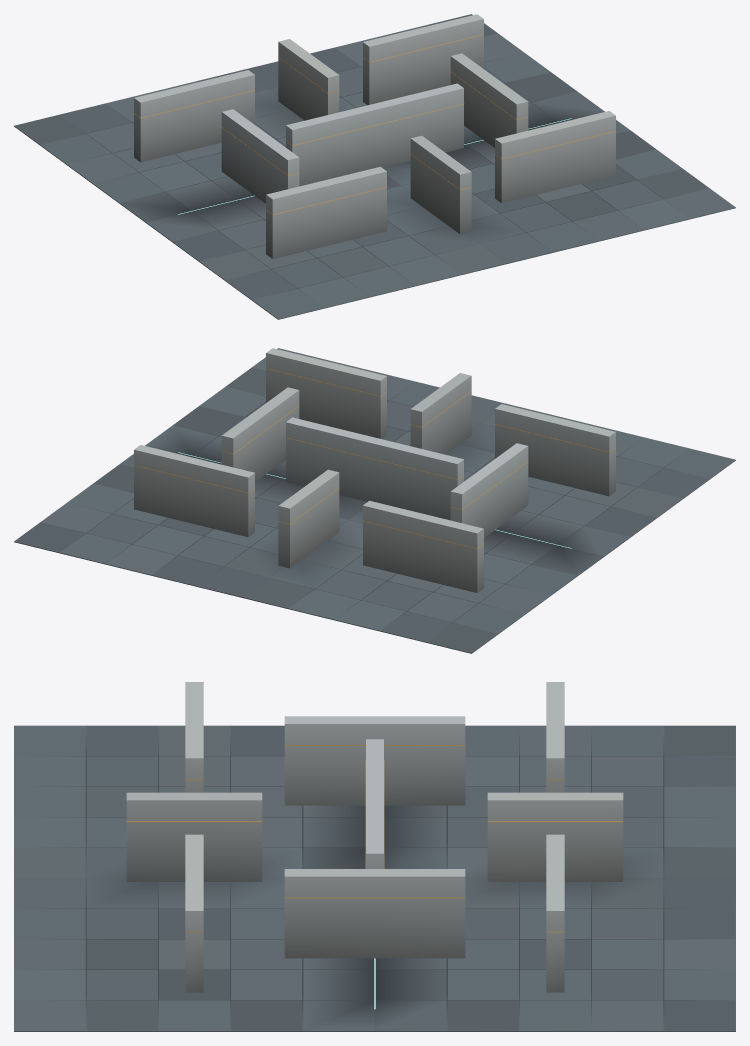
The model's file is 01_world.glb.
3 renders of one model, top to bottom at view 1: azimuth 30°, elevation 25°; view 2: azimuth 150°, elevation 25°; view 3: azimuth 270°, elevation 25°, orthographic. The views are drawn at different scales.
Visible parts, largest first — view 1: world_11_body_nocol, world_01_floor_noshadow_nocol, world_11_floor_noshadow_nocol, world_00_floor_noshadow_nocol, world_01_body_nocol, world_10_body_nocol, world_10_floor_noshadow_nocol, world_00_body_nocol, world_11_trim_noshadow_nocol; view 2: world_11_body_nocol, world_00_floor_noshadow_nocol, world_10_floor_noshadow_nocol, world_01_floor_noshadow_nocol, world_10_body_nocol, world_01_body_nocol, world_00_body_nocol, world_11_floor_noshadow_nocol, world_11_trim_noshadow_nocol; view 3: world_10_floor_noshadow_nocol, world_11_floor_noshadow_nocol, world_00_floor_noshadow_nocol, world_01_floor_noshadow_nocol, world_11_body_nocol, world_01_body_nocol, world_10_body_nocol, world_00_body_nocol, world_11_trim_noshadow_nocol.
Boxes of the visible parts, <box> form: world_11_body_nocol: <box>286,53,615,234</box>; world_01_floor_noshadow_nocol: <box>146,175,506,319</box>; world_11_floor_noshadow_nocol: <box>383,111,735,263</box>; world_00_floor_noshadow_nocol: <box>14,70,304,222</box>; world_01_body_nocol: <box>221,109,386,258</box>; world_10_body_nocol: <box>278,14,483,120</box>; world_10_floor_noshadow_nocol: <box>243,14,603,144</box>; world_00_body_nocol: <box>134,70,254,162</box>; world_11_trim_noshadow_nocol: <box>285,71,615,190</box>; world_11_body_nocol: <box>221,348,471,520</box>; world_00_floor_noshadow_nocol: <box>243,509,603,653</box>; world_10_floor_noshadow_nocol: <box>14,445,366,597</box>; world_01_floor_noshadow_nocol: <box>445,404,735,556</box>; world_10_body_nocol: <box>134,445,339,568</box>; world_01_body_nocol: <box>450,404,615,537</box>; world_00_body_nocol: <box>363,500,483,592</box>; world_11_floor_noshadow_nocol: <box>146,348,506,478</box>; world_11_trim_noshadow_nocol: <box>221,368,471,479</box>; world_10_floor_noshadow_nocol: <box>375,878,735,1031</box>; world_11_floor_noshadow_nocol: <box>14,878,374,1031</box>; world_00_floor_noshadow_nocol: <box>384,725,735,878</box>; world_01_floor_noshadow_nocol: <box>14,725,365,878</box>; world_11_body_nocol: <box>126,739,465,992</box>; world_01_body_nocol: <box>185,682,465,805</box>; world_10_body_nocol: <box>487,792,623,992</box>; world_00_body_nocol: <box>546,682,564,792</box>; world_11_trim_noshadow_nocol: <box>126,760,465,932</box>.
Size of the model in its own units: 80 by 10.12 by 80.
